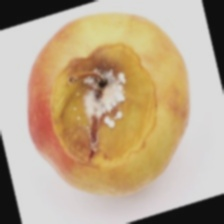apple: (31, 3, 186, 196)
